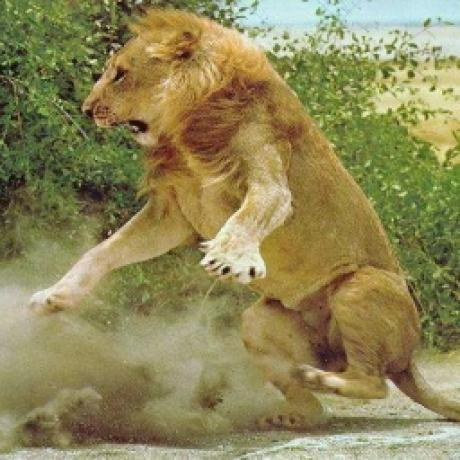Lion: (23, 9, 460, 424)
